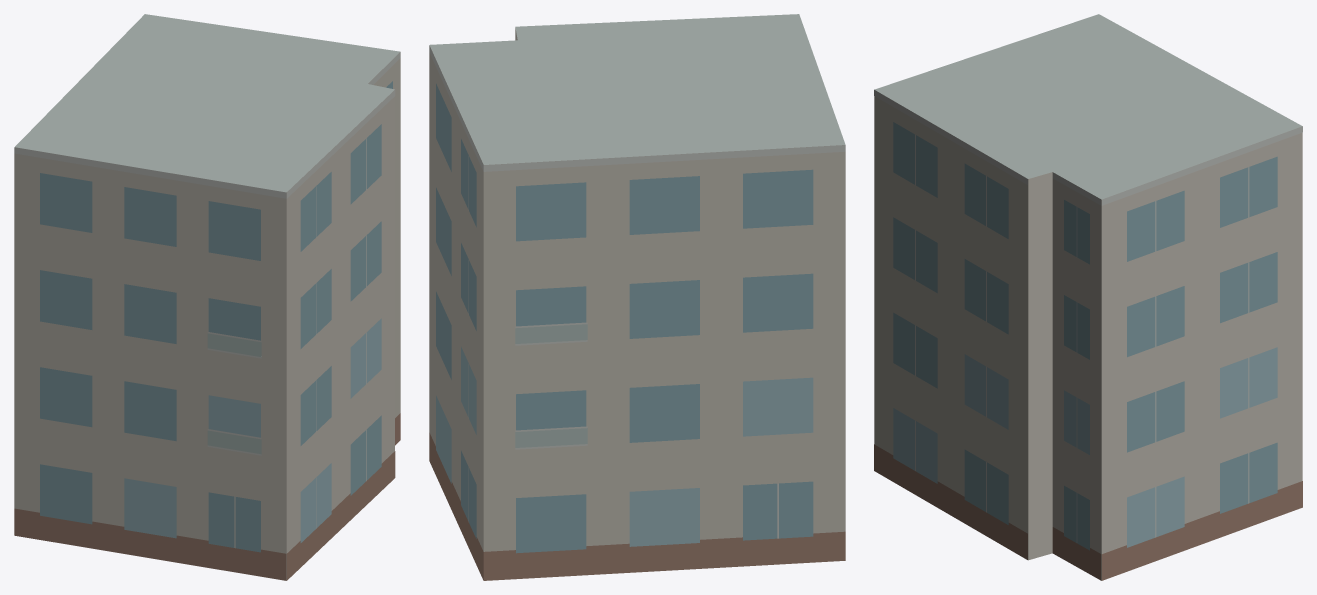
File: survey-upis-32923112.glb
3 renders of one model, left to right at view 1: azimuth 30°, elevation 25°; view 2: azimuth 150°, elevation 25°; view 3: azimuth 270°, elevation 25°, orthographic. The views are drawn at different scales.
Parts seen in each view (by area): view 1: survey-upis-32923112.tmp; view 2: survey-upis-32923112.tmp; view 3: survey-upis-32923112.tmp.
Part boxes in pixels (<box>): survey-upis-32923112.tmp: <box>14,14,400,580</box>; survey-upis-32923112.tmp: <box>429,14,845,580</box>; survey-upis-32923112.tmp: <box>874,14,1302,580</box>.
Size of the model in its own units: 15.46 by 14.8 by 15.08.
